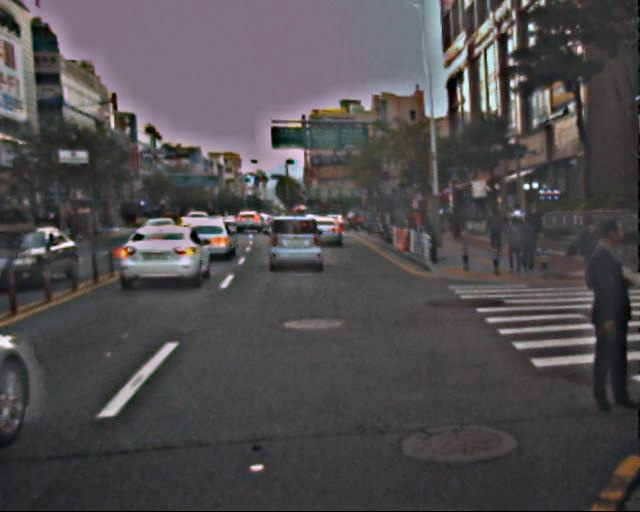person: (569, 223, 640, 415), (574, 222, 601, 288), (503, 218, 527, 276), (506, 205, 529, 261), (485, 208, 506, 259), (518, 217, 539, 267), (395, 207, 432, 233), (528, 204, 547, 251), (449, 206, 463, 240)
